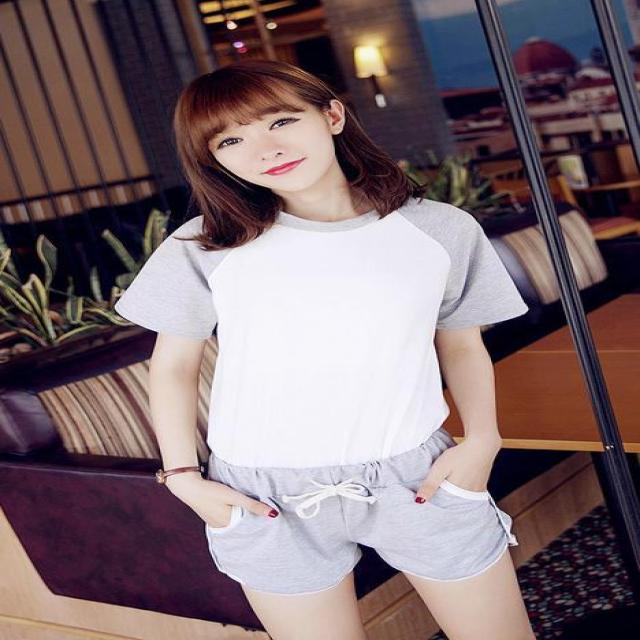short sleeve top: (118, 189, 529, 466)
shorts: (208, 428, 516, 583)
